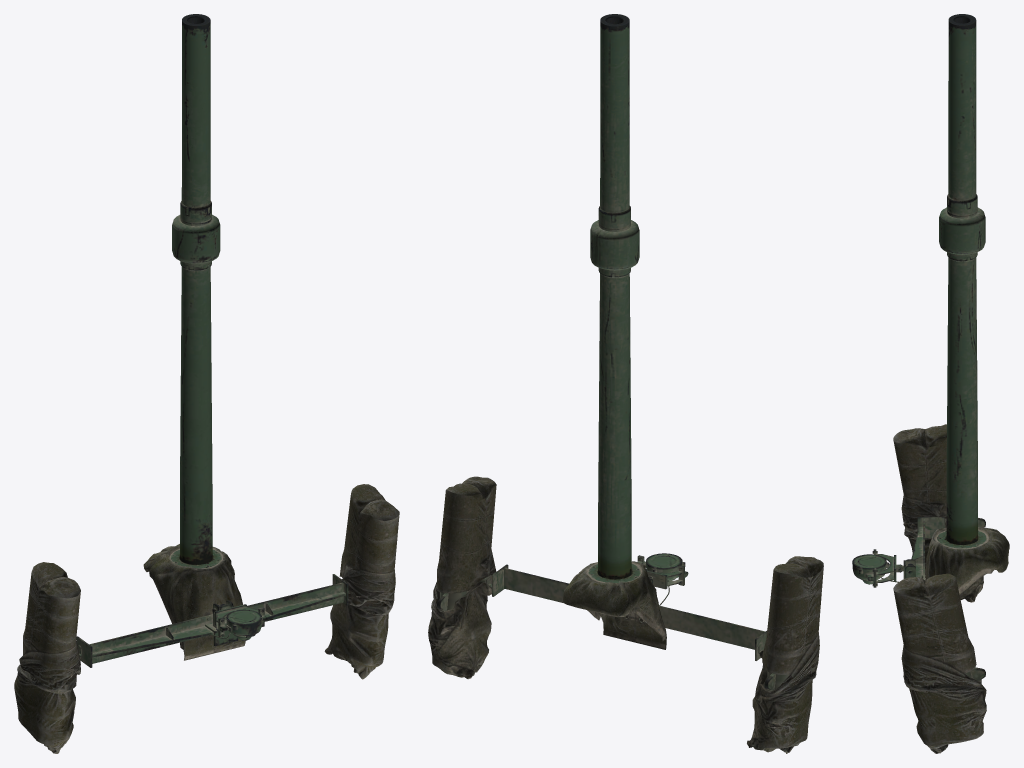
Rendered from Gun_01.glb.
3 views of the same model, side by side, from view 1: azimuth 30°, elevation 25°; view 2: azimuth 150°, elevation 25°; view 3: azimuth 270°, elevation 25° (orthographic). The views are drawn at different scales.
Visible parts, largest first — view 1: set_0_group_0; view 2: set_0_group_0; view 3: set_0_group_0.
Boxes of the visible parts, <box> form: set_0_group_0: <box>14,14,399,753</box>; set_0_group_0: <box>428,14,823,753</box>; set_0_group_0: <box>852,14,1009,753</box>.
Bounding box in the file's own units: 2.93 × 5.35 × 1.15.
1 material, 1 textured.
